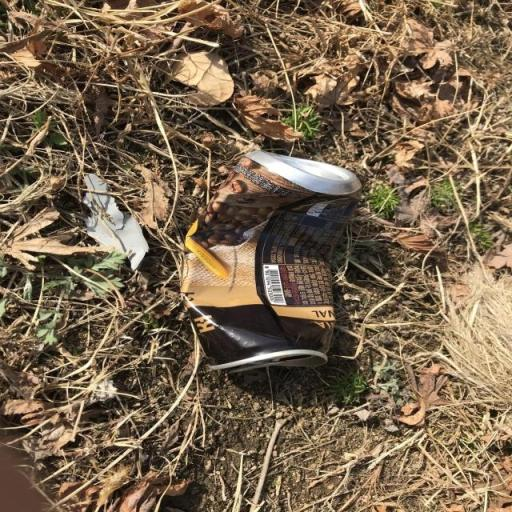metal: (144, 126, 409, 391)
